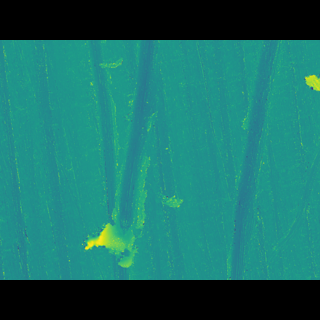Loch: (228, 69, 296, 251), (84, 69, 161, 210), (265, 140, 320, 237), (76, 205, 154, 243)
